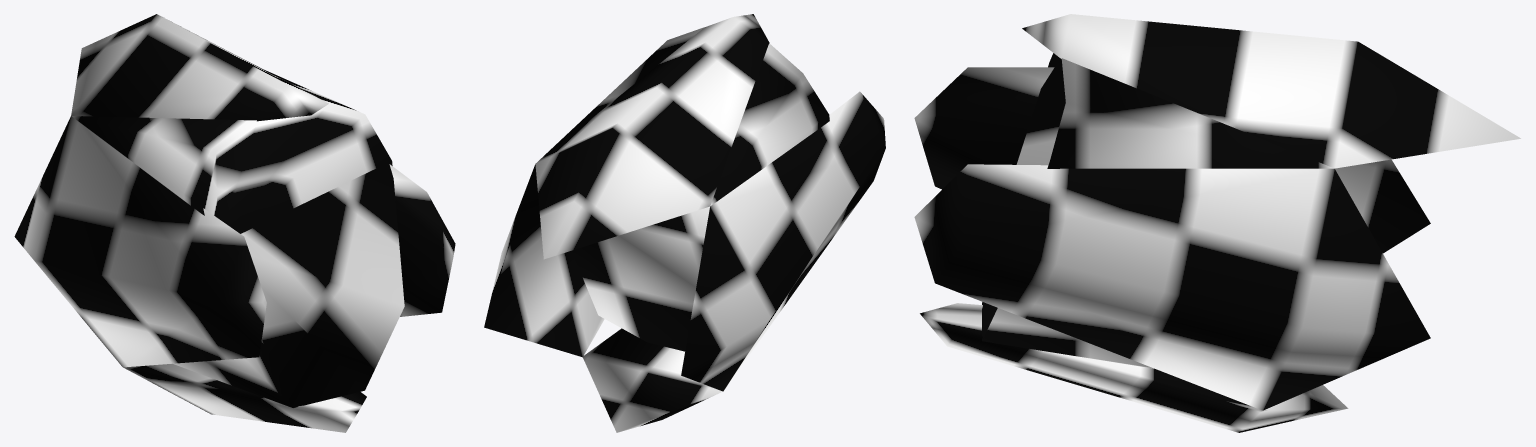
Rendered from initarhl13.dae.
The picture shows the model from 3 angles, left to right: view 1: azimuth 30°, elevation 25°; view 2: azimuth 150°, elevation 25°; view 3: azimuth 270°, elevation 25°; orthographic projection. The views are drawn at different scales.
Parts seen in each view (by area): view 1: armor; view 2: armor; view 3: armor.
Boxes of the visible parts, bbox=[...] form: armor: bbox=[14, 14, 455, 432]; armor: bbox=[484, 14, 885, 432]; armor: bbox=[914, 14, 1520, 432].
Bounding box in the file's own units: 0.7883 × 1.29 × 0.9833.
1 material, 1 textured.
